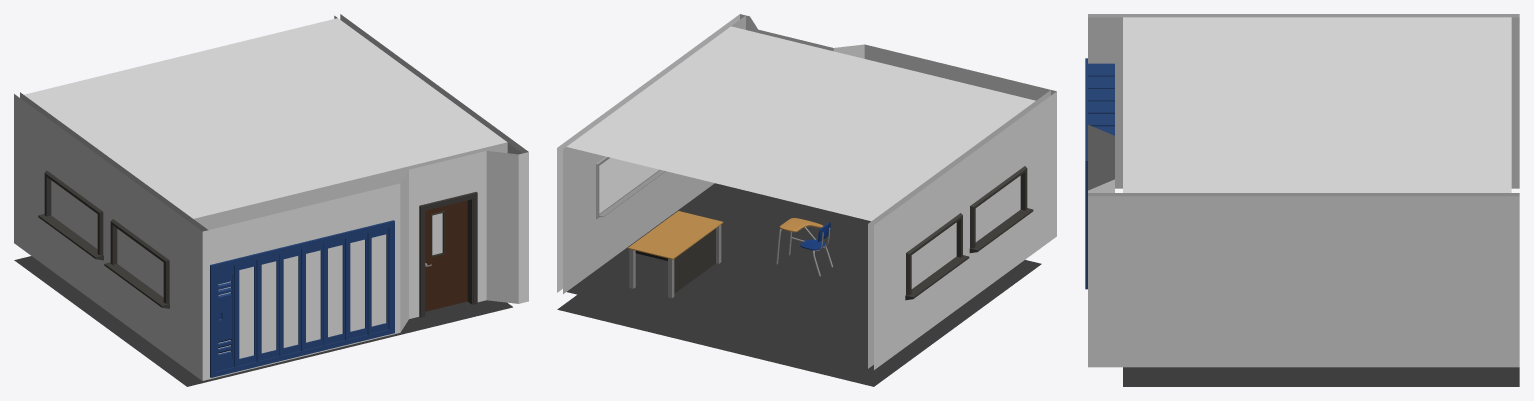
The model's file is classroom.fbx.
3 renders of one model, left to right at view 1: azimuth 30°, elevation 25°; view 2: azimuth 150°, elevation 25°; view 3: azimuth 270°, elevation 25°, orthographic. The views are drawn at different scales.
Visible parts, largest first — view 1: Ceiling, Door Wall (w/ lockers), Wall (w/ windows), Door Wall, Floor, Door, Locker Door, Wall; view 2: Ceiling, Floor, Wall (w/ windows), Wall, Teacher Desk, Door Wall (w/ lockers), Whiteboard, Student Desk, Door Wall; view 3: Wall, Ceiling, Floor, Wall (w/ windows), Door Wall (w/ lockers).
Boxes of the visible parts, box(x1,y1,x2,y2) form: Ceiling: box(24, 18, 506, 218); Door Wall (w/ lockers): box(194, 142, 528, 380); Wall (w/ windows): box(14, 92, 208, 380); Door Wall: box(195, 165, 415, 380); Floor: box(14, 256, 512, 386); Door: box(425, 200, 467, 311); Locker Door: box(217, 272, 232, 364); Wall: box(334, 14, 528, 154); Ceiling: box(566, 26, 1035, 221); Floor: box(557, 183, 1041, 386); Wall (w/ windows): box(868, 90, 1056, 369); Wall: box(557, 14, 745, 293); Teacher Desk: box(628, 211, 723, 298); Door Wall (w/ lockers): box(740, 14, 1056, 100); Whiteboard: box(596, 156, 665, 219); Student Desk: box(776, 218, 833, 276); Door Wall: box(865, 45, 1054, 98); Wall: box(1088, 193, 1519, 367); Ceiling: box(1123, 17, 1511, 192); Floor: box(1123, 367, 1519, 386); Wall (w/ windows): box(1088, 14, 1519, 188); Door Wall (w/ lockers): box(1085, 58, 1114, 289).
Size of the model in its own units: 820 by 390 by 805.
